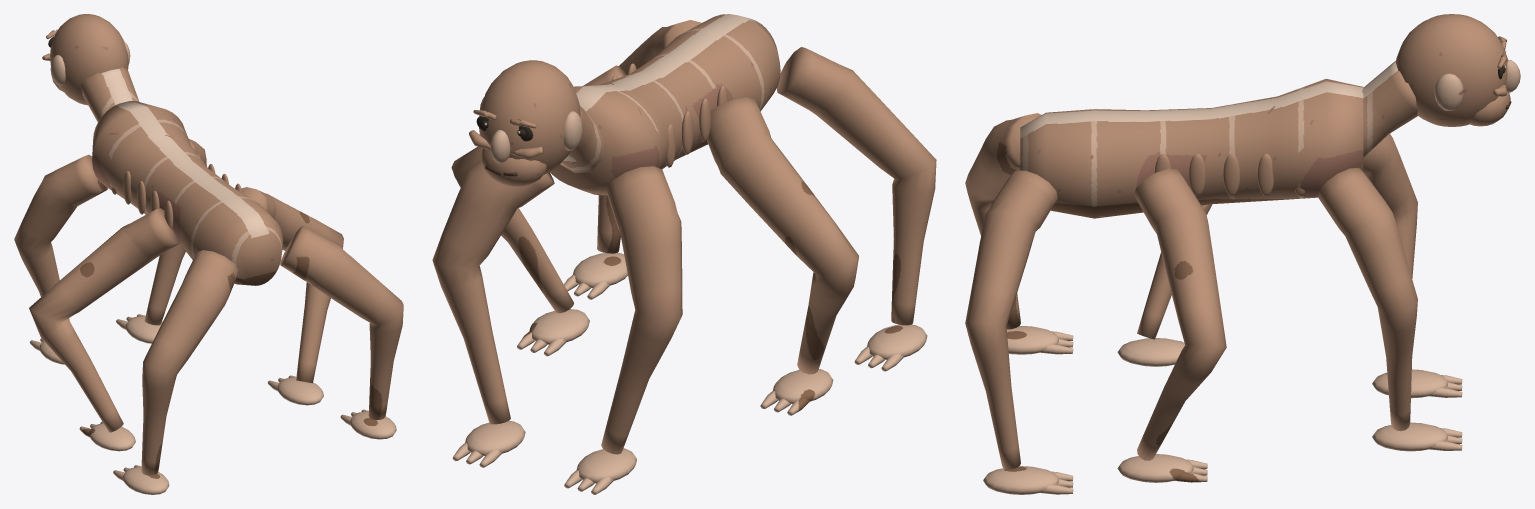
The picture shows the model from 3 angles, left to right: view 1: azimuth 30°, elevation 25°; view 2: azimuth 150°, elevation 25°; view 3: azimuth 270°, elevation 25°; orthographic projection. The views are drawn at different scales.
Size of the model in its own units: 1.59 by 1.55 by 1.94.
Materials: 1 (1 with a texture image).
